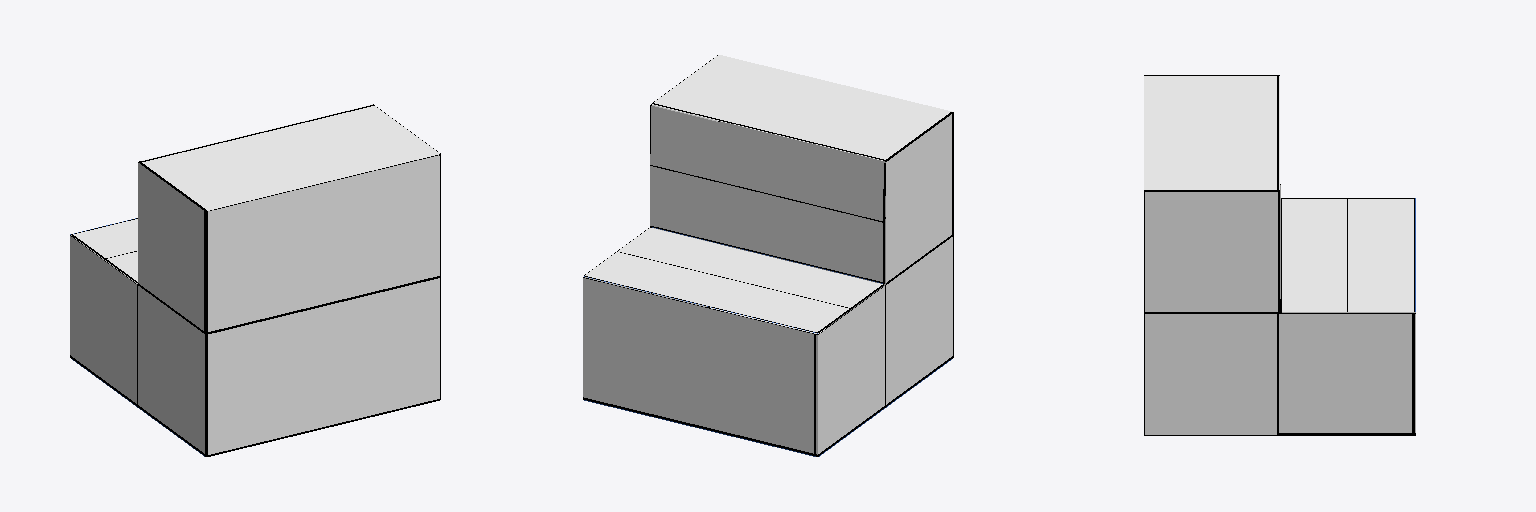
The picture shows the model from 3 angles: view 1: azimuth 30°, elevation 25°; view 2: azimuth 150°, elevation 25°; view 3: azimuth 270°, elevation 25°; orthographic projection.
Parts seen in each view (by area): view 1: Cube; view 2: Cube; view 3: Cube.
Part boxes in pixels (bbox=[...]): Cube: bbox=[70, 104, 440, 456]; Cube: bbox=[583, 55, 953, 456]; Cube: bbox=[1144, 75, 1415, 435].
Bounding box in the file's own units: 2.01 × 2 × 2.
1 materials, 1 textured.